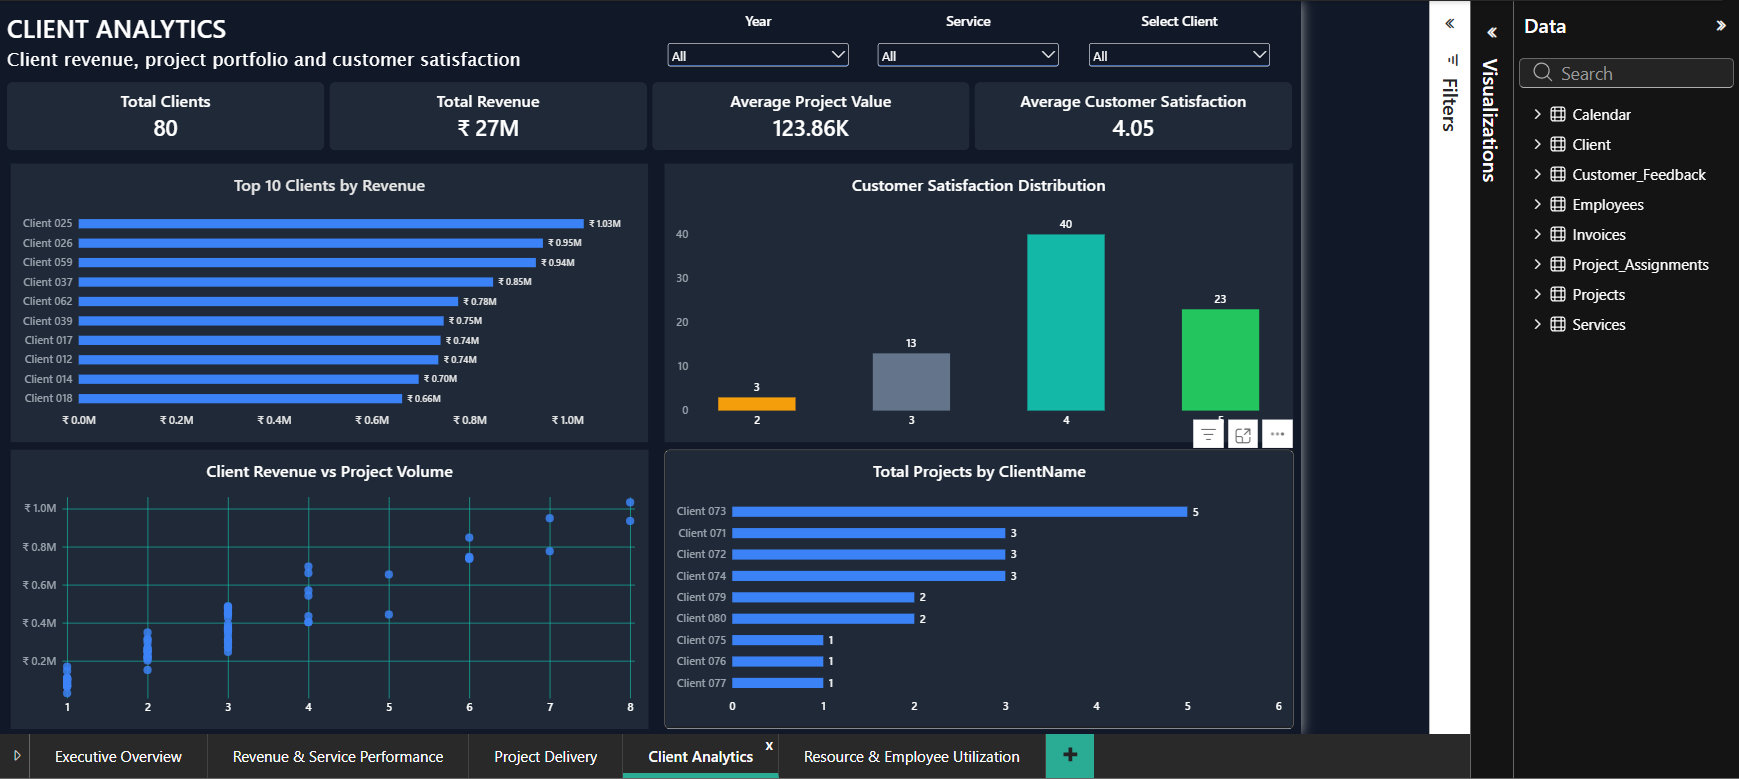

Layout of this report page (visuals, bound fields, positions):
{"tool":"powerbi","page":{"name":"Client Analytics","canvas":[1920,1080],"ordinal":3},"visuals":[{"type":"textbox","box":[14.7,14.7,344.2,64.4],"z":0},{"type":"textbox","box":[14.7,66.3,773,55.2],"z":1000},{"type":"cardVisual","fields":{"Data":["Services.Total Clients","Services.Total Revenue","Services.Average Project Value","Services.Average Customer Satisfaction"]},"box":[14.7,120,1893.9,100.5],"z":2000},{"type":"clusteredBarChart","title":"Top 10 Clients by Revenue","fields":{"Category":["Client.ClientName"],"Y":["Services.Total Revenue"]},"box":[20.2,239.3,938.7,410.8],"z":3000},{"type":"scatterChart","title":"Client Revenue vs Project Volume","fields":{"Category":["Client.ClientName"],"X":["Services.Total Projects"],"Y":["Services.Total Revenue"]},"box":[20,660,939,411],"z":4000},{"type":"clusteredColumnChart","title":"Customer Satisfaction Distribution","fields":{"Category":["Customer_Feedback.Satisfaction_Rating"],"Y":["CountNonNull(Customer_Feedback.Project_ID)"]},"box":[982.8,239.3,925.8,410.4],"z":5000},{"type":"clusteredBarChart","fields":{"Category":["Client.ClientName"],"Y":["Services.Total Projects"]},"box":[983,660,926,411],"z":6000},{"type":"slicer","title":"Year","fields":{"Values":["Calendar.Year"]},"box":[982.8,14.7,276.1,101.2],"z":7000},{"type":"slicer","title":"Service","fields":{"Values":["Services.ServiceName"]},"box":[1292,14.7,276.1,101.2],"z":8000},{"type":"slicer","title":"Select Client","fields":{"Values":["Client.ClientName"]},"box":[1603.1,14.7,276.1,101.2],"z":9000}]}

Visuals, with their boxes on the page's 1920x1080 design canvas (x1, y1, x2, y2). These are canvas units, not pixel positions in the 1739x779 screenshot, which may show the page scaled, cropped or inside an application window:
textbox: x1=15, y1=15, x2=359, y2=79
textbox: x1=15, y1=66, x2=788, y2=122
cardVisual - Services.Total Clients x Services.Total Revenue: x1=15, y1=120, x2=1909, y2=220
"Top 10 Clients by Revenue" clusteredBarChart: x1=20, y1=239, x2=959, y2=650
"Client Revenue vs Project Volume" scatterChart: x1=20, y1=660, x2=959, y2=1071
"Customer Satisfaction Distribution" clusteredColumnChart: x1=983, y1=239, x2=1909, y2=650
clusteredBarChart - Client.ClientName x Services.Total Projects: x1=983, y1=660, x2=1909, y2=1071
"Year" slicer: x1=983, y1=15, x2=1259, y2=116
"Service" slicer: x1=1292, y1=15, x2=1568, y2=116
"Select Client" slicer: x1=1603, y1=15, x2=1879, y2=116
